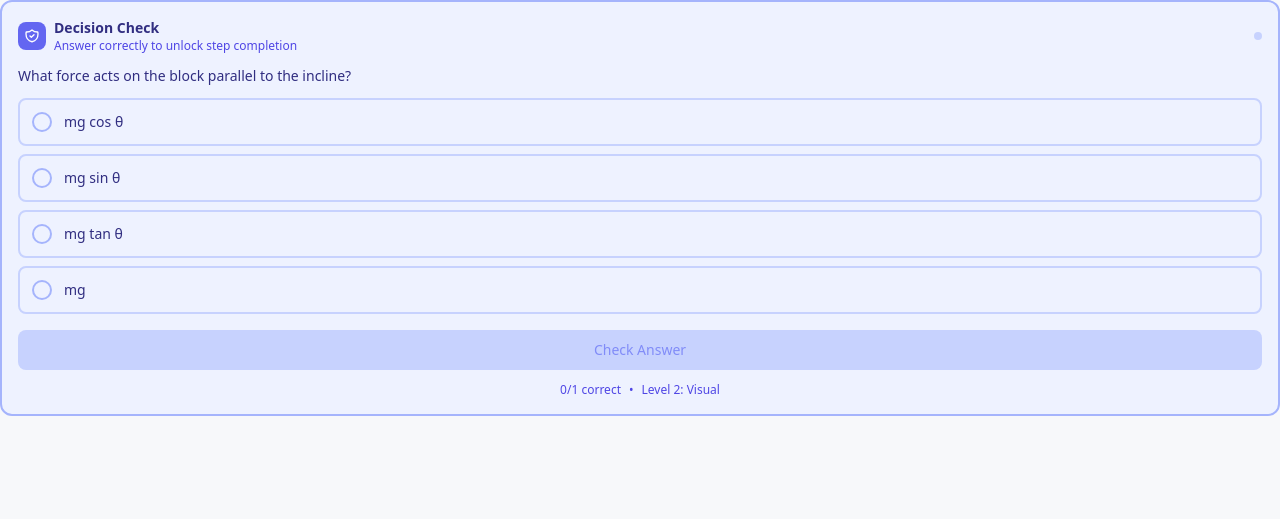
it: DecisionGate › Feedback Display › shows incorrect feedback when answer is wrong
Click the button "mg cos θ" at (94, 122), box [18,98,1262,146]
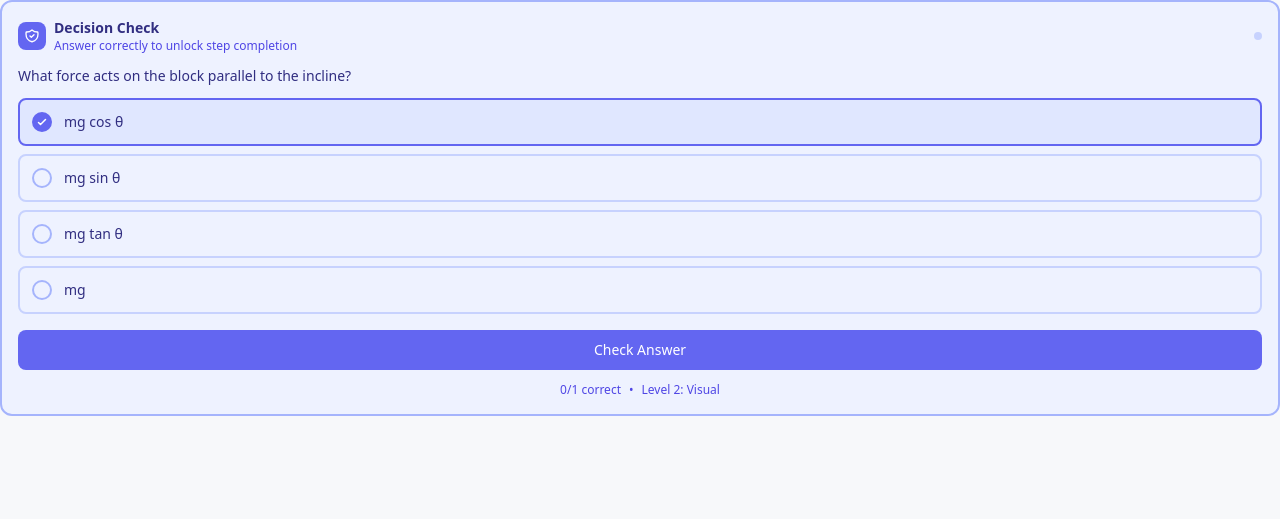
Click the button "Check Answer" at (640, 350), box [18,330,1262,370]
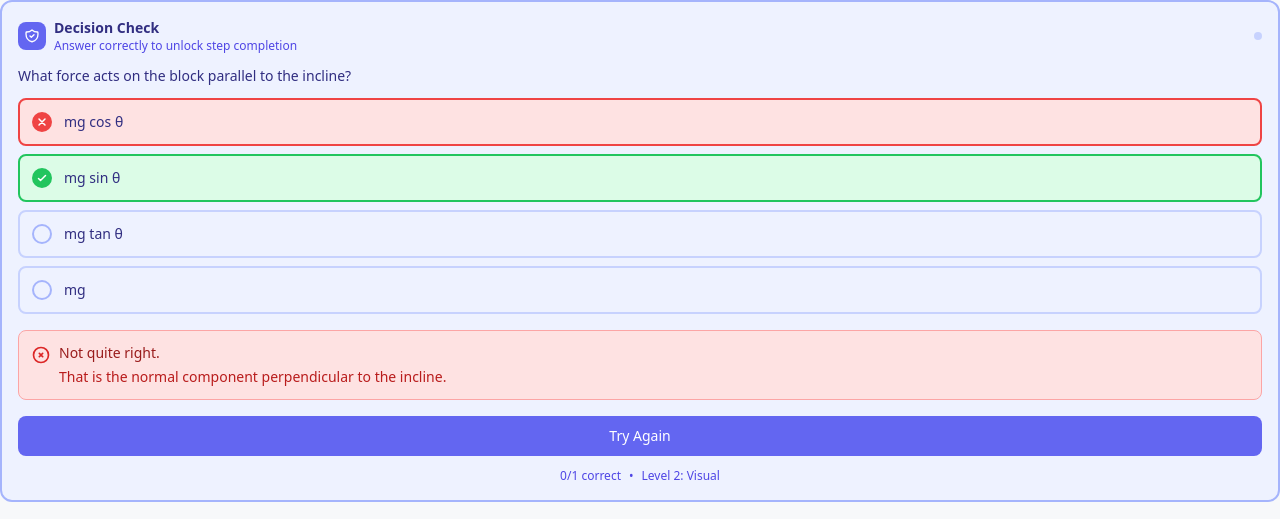
expect the text "Not quite right." is shown: met, box [59,343,160,362]
